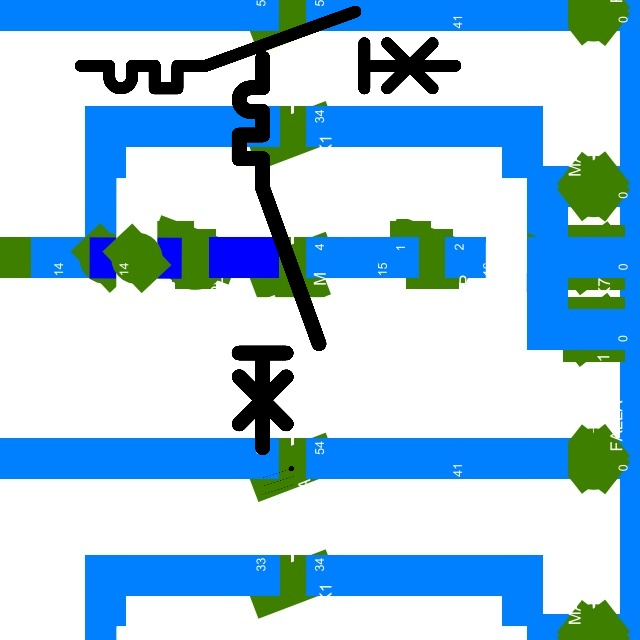interruptor_termomagnetico: (229, 48, 329, 458), (71, 2, 465, 98)
